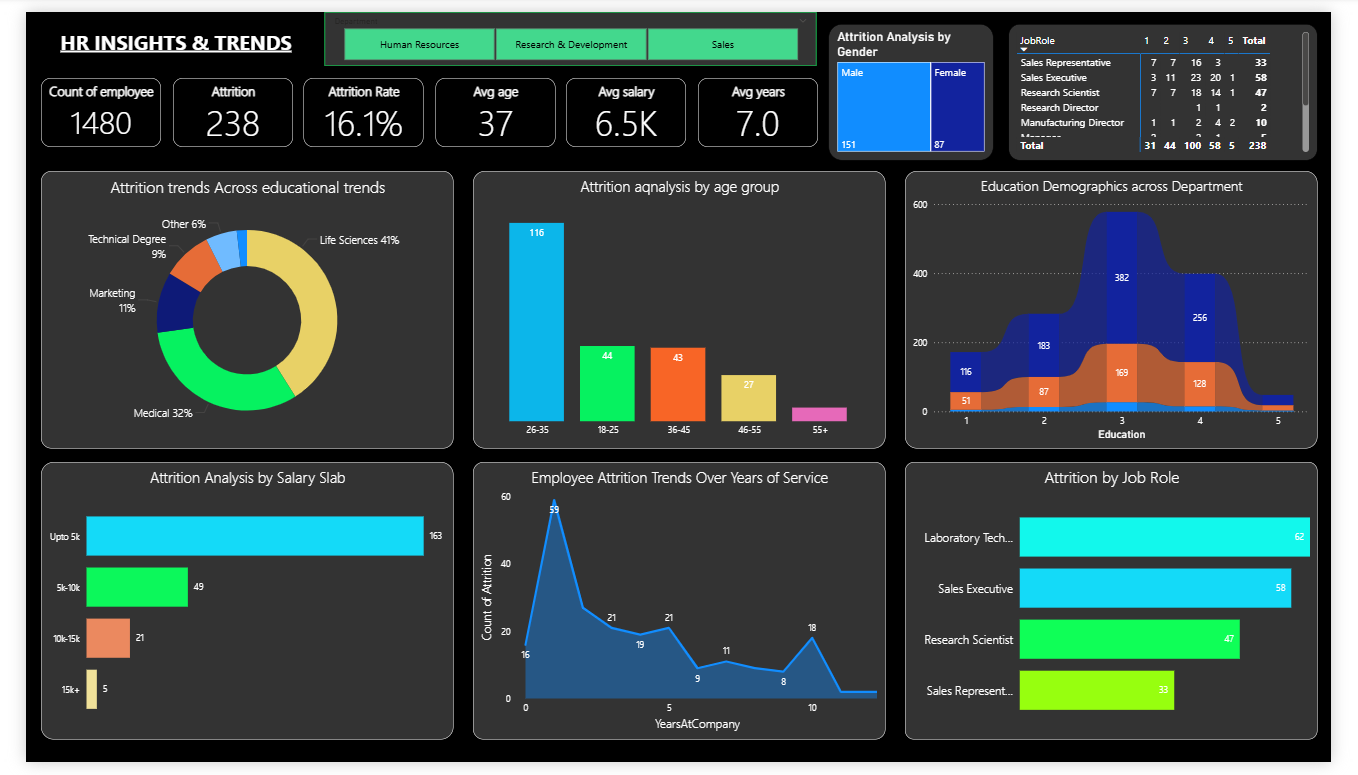

The dashboard page shown, as its layout file describes it:
{"tool":"powerbi","page":{"name":"Page 1","canvas":[1740,1000],"ordinal":0},"visuals":[{"type":"card","title":"Count of employee","fields":{"Values":["CountNonNull(HR_Analytics.EmployeeCount)"]},"box":[20,87.8,160,92],"z":0},{"type":"card","title":"Attrition","fields":{"Values":["CountNonNull(HR_Analytics.Attrition)"]},"box":[195,88,160,92],"z":1000},{"type":"card","title":"Avg age","fields":{"Values":["Avg(HR_Analytics.Age)"]},"box":[545,88,160,92],"z":2000},{"type":"card","title":"Avg salary","fields":{"Values":["Avg(HR_Analytics.MonthlyIncome)"]},"box":[720,88,160,92],"z":3000},{"type":"card","title":"Avg years","fields":{"Values":["Avg(HR_Analytics.YearsAtCompany)"]},"box":[895,88,160,92],"z":4000},{"type":"donutChart","title":"Attrition trends Across educational trends","fields":{"Category":["HR_Analytics.EducationField"],"Y":["CountNonNull(HR_Analytics.Attrition)"]},"box":[20,212,550,370],"z":5000},{"type":"columnChart","title":"Attrition aqnalysis by age group","fields":{"Category":["HR_Analytics.AgeGroup"],"Y":["CountNonNull(HR_Analytics.Attrition)"]},"box":[596,212,550,370],"z":6000},{"type":"ribbonChart","title":"Education Demographics across Department","fields":{"Category":["HR_Analytics.Education"],"Y":["CountNonNull(HR_Analytics.EmpID)"],"Series":["HR_Analytics.Department"]},"box":[1172,212,550,370],"z":7000},{"type":"barChart","title":"Attrition Analysis by Salary Slab","fields":{"Category":["HR_Analytics.SalarySlab"],"Y":["CountNonNull(HR_Analytics.Attrition)"]},"box":[20,600,550,370],"z":8000},{"type":"areaChart","title":"Employee Attrition Trends Over Years of Service","fields":{"Category":["HR_Analytics.YearsAtCompany"],"Y":["CountNonNull(HR_Analytics.Attrition)"]},"box":[596,600,550,370],"z":9000},{"type":"barChart","title":"Attrition by Job Role","fields":{"Category":["HR_Analytics.JobRole"],"Y":["CountNonNull(HR_Analytics.Attrition)"]},"box":[1172,600,550,370],"z":10000},{"type":"slicer","fields":{"Values":["HR_Analytics.Department"]},"box":[398,0,656,72],"z":11000},{"type":"textbox","box":[20,16,360,56],"z":12000},{"type":"pivotTable","fields":{"Rows":["HR_Analytics.JobRole"],"Columns":["HR_Analytics.Education"],"Values":["Sum(HR_Analytics.EmployeeCount)"]},"box":[1310,16,412,182],"z":13000},{"type":"treemap","title":"Attrition Analysis by Gender","fields":{"Group":["HR_Analytics.Gender"],"Values":["CountNonNull(HR_Analytics.EmpID)"]},"box":[1070,16,220,182],"z":14000},{"type":"card","title":"Attrition Rate","fields":{"Values":["HR_Analytics.attrition rate"]},"box":[370,88,160,92],"z":14002}]}

Visuals, with their boxes in screenshot pixels (x1, y1, x2, y2), scaled from the page's 1740x1000 canvas onto the 1358x775 screenshot:
"Count of employee" card: 16,68,140,139
"Attrition" card: 152,68,277,140
"Avg age" card: 425,68,550,140
"Avg salary" card: 562,68,687,140
"Avg years" card: 699,68,823,140
"Attrition trends Across educational trends" donutChart: 16,164,445,451
"Attrition aqnalysis by age group" columnChart: 465,164,894,451
"Education Demographics across Department" ribbonChart: 915,164,1344,451
"Attrition Analysis by Salary Slab" barChart: 16,465,445,752
"Employee Attrition Trends Over Years of Service" areaChart: 465,465,894,752
"Attrition by Job Role" barChart: 915,465,1344,752
slicer - HR_Analytics.Department: 311,0,823,56
textbox: 16,12,297,56
pivotTable - HR_Analytics.JobRole x HR_Analytics.Education: 1022,12,1344,153
"Attrition Analysis by Gender" treemap: 835,12,1007,153
"Attrition Rate" card: 289,68,414,140
